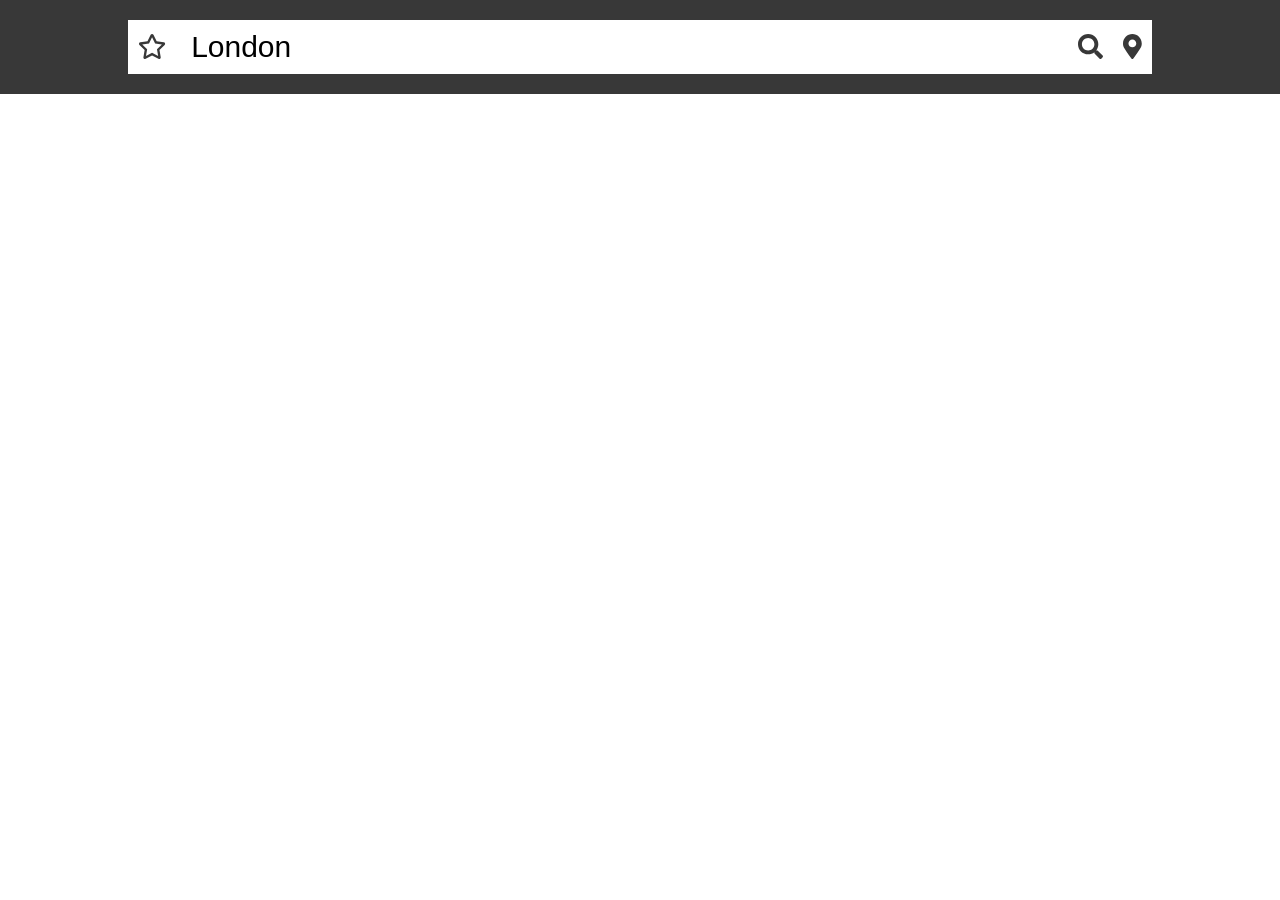
LocationList › the filtered list › shows the shortened filtered list with a summary of excess matches not shown
Replace the text in the field with placeholder "Enter location name" with "l" at (622, 47), box [176,20,1068,74]
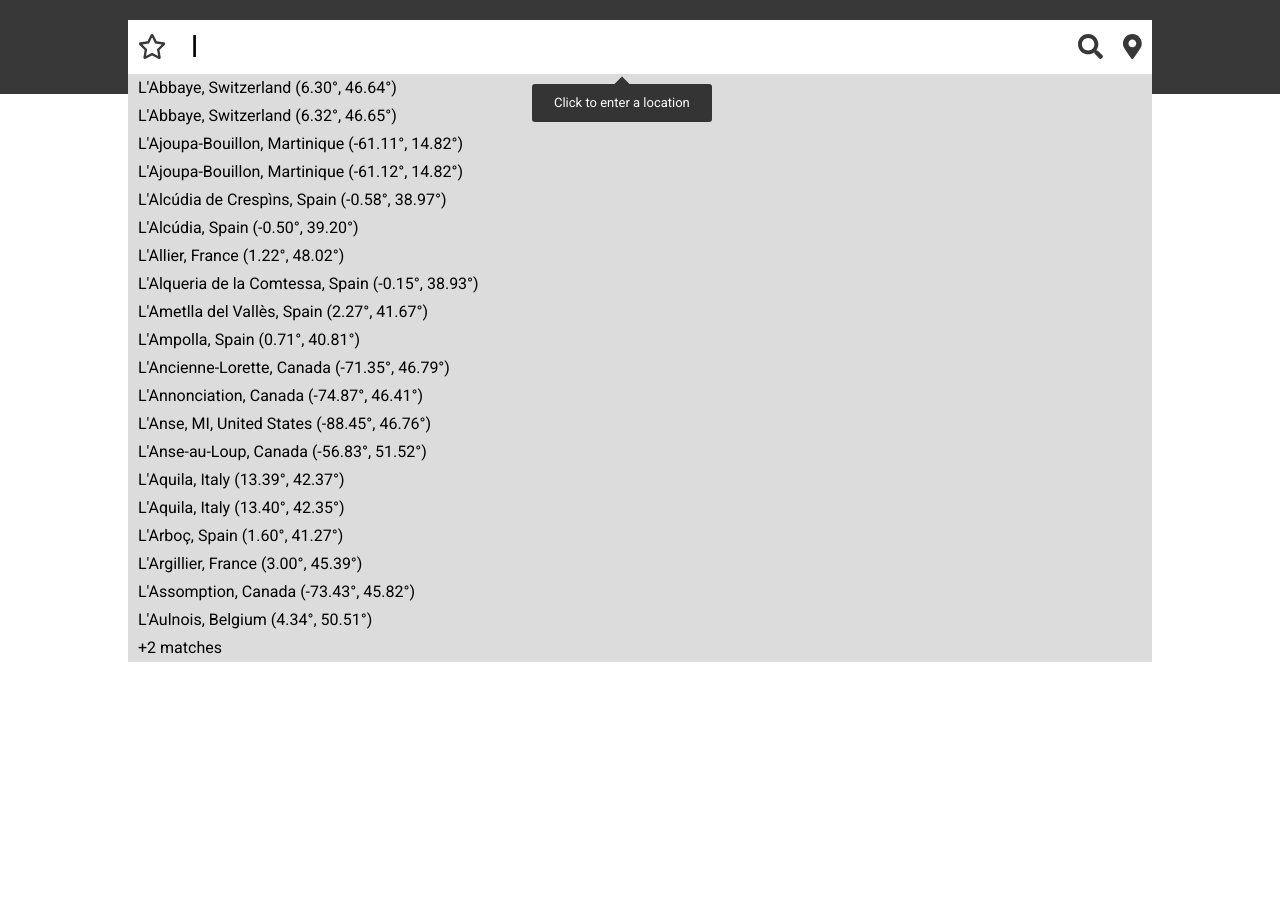
Now the link "L'Aulnois, Belgium (4.34°, 50.51°)" is shown, box [138,610,372,629]
Now the text "+2 matches" is shown, box [138,638,222,657]
